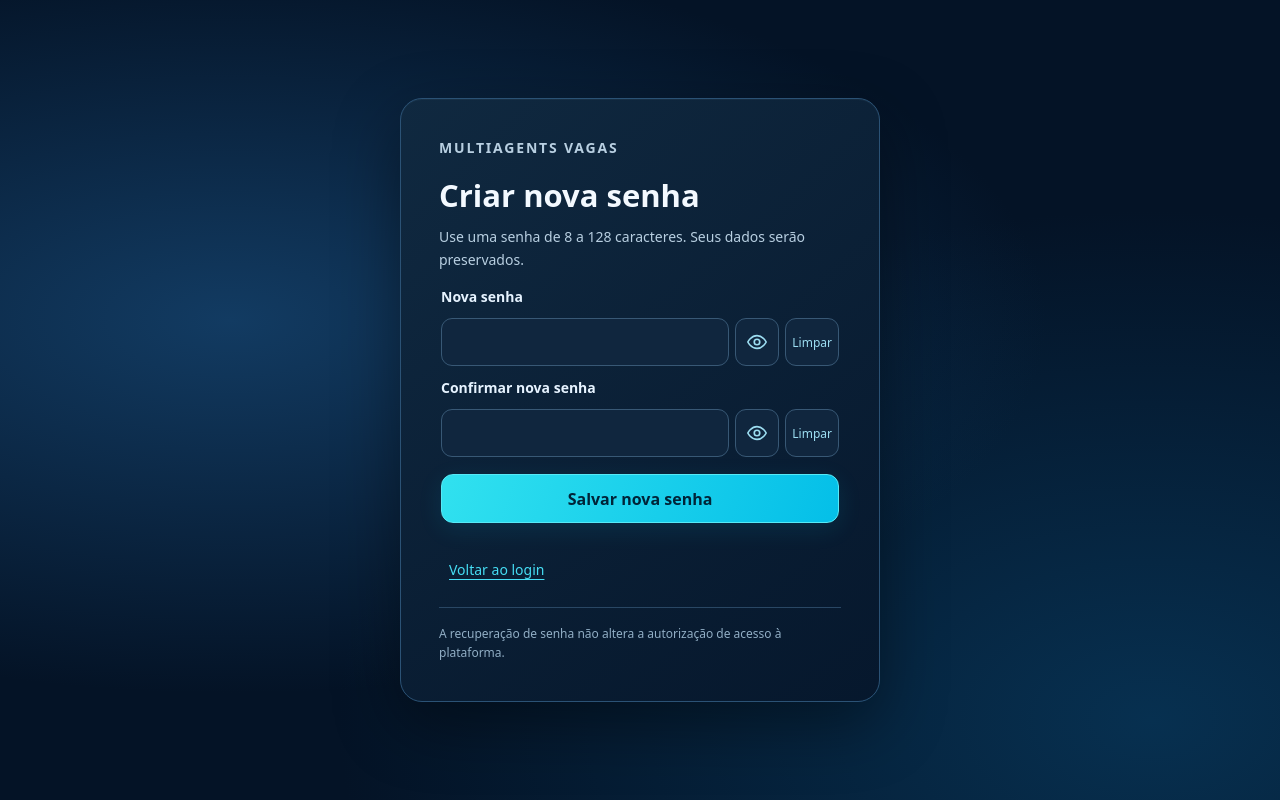
Test: Recuperação de senha › remove o token da URL, exige confirmação e volta ao login após redefinir
Expected: the heading "Criar nova senha" is shown, [439,174,700,216]
Type "Uma senha longa segura!" into the password field labelled "Nova senha" at (585, 342), box [441,318,729,366]
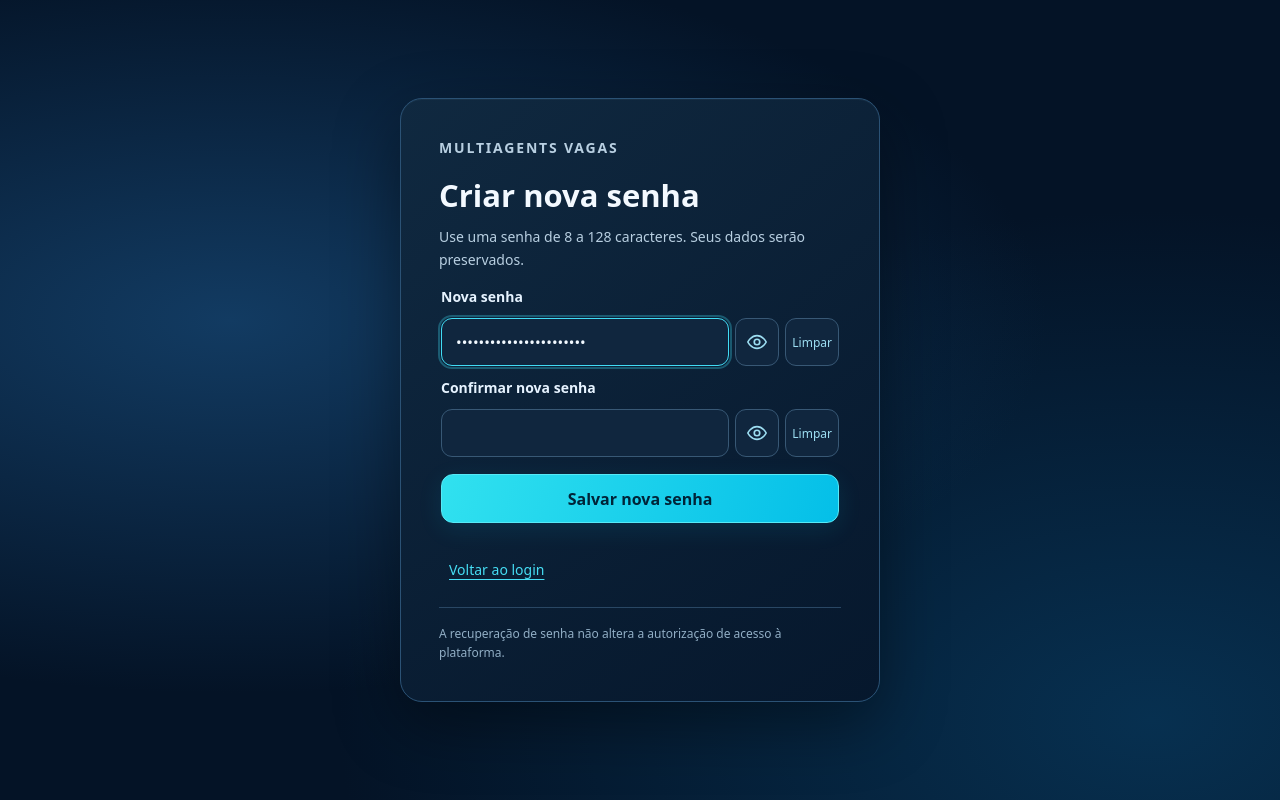
Type "Outra senha longa segura!" into the password field labelled "Confirmar nova senha" at (585, 433), box [441,409,729,457]
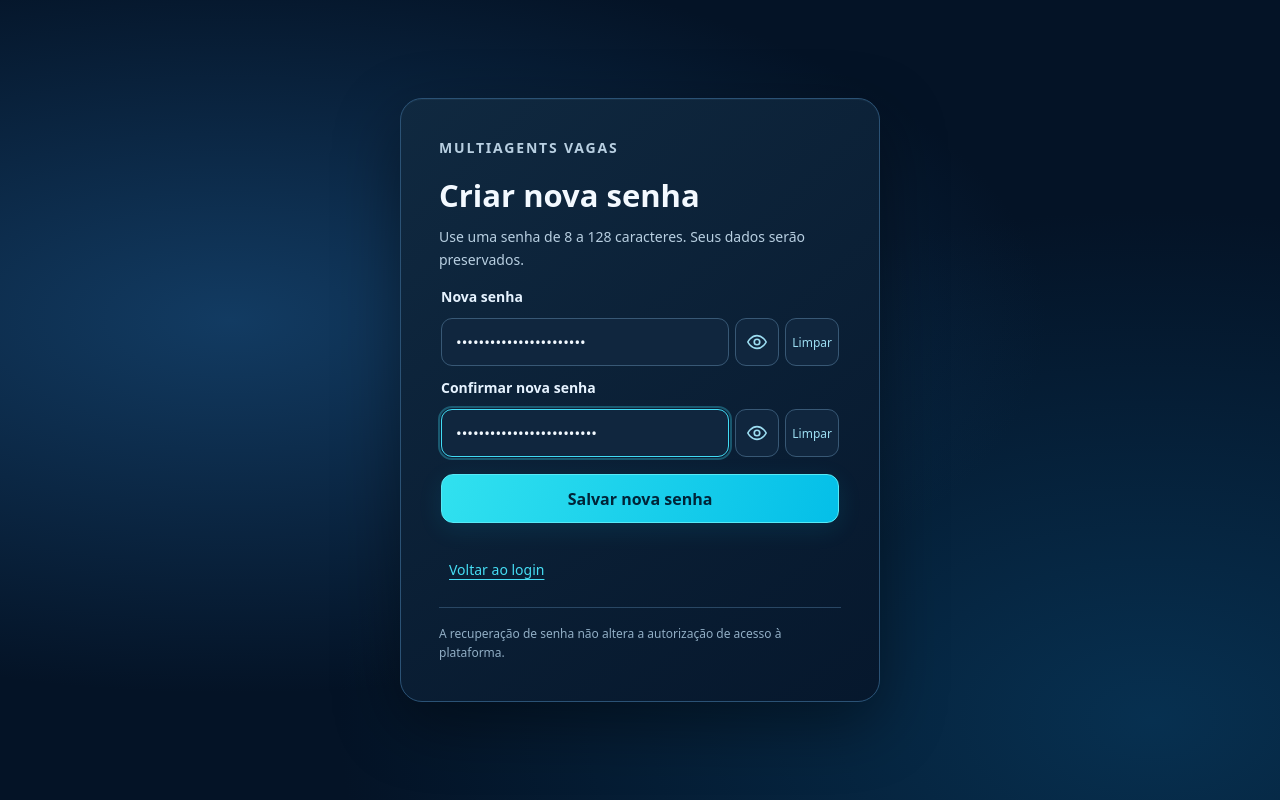
Click the button "Salvar nova senha" at (640, 499), box [441,474,839,523]
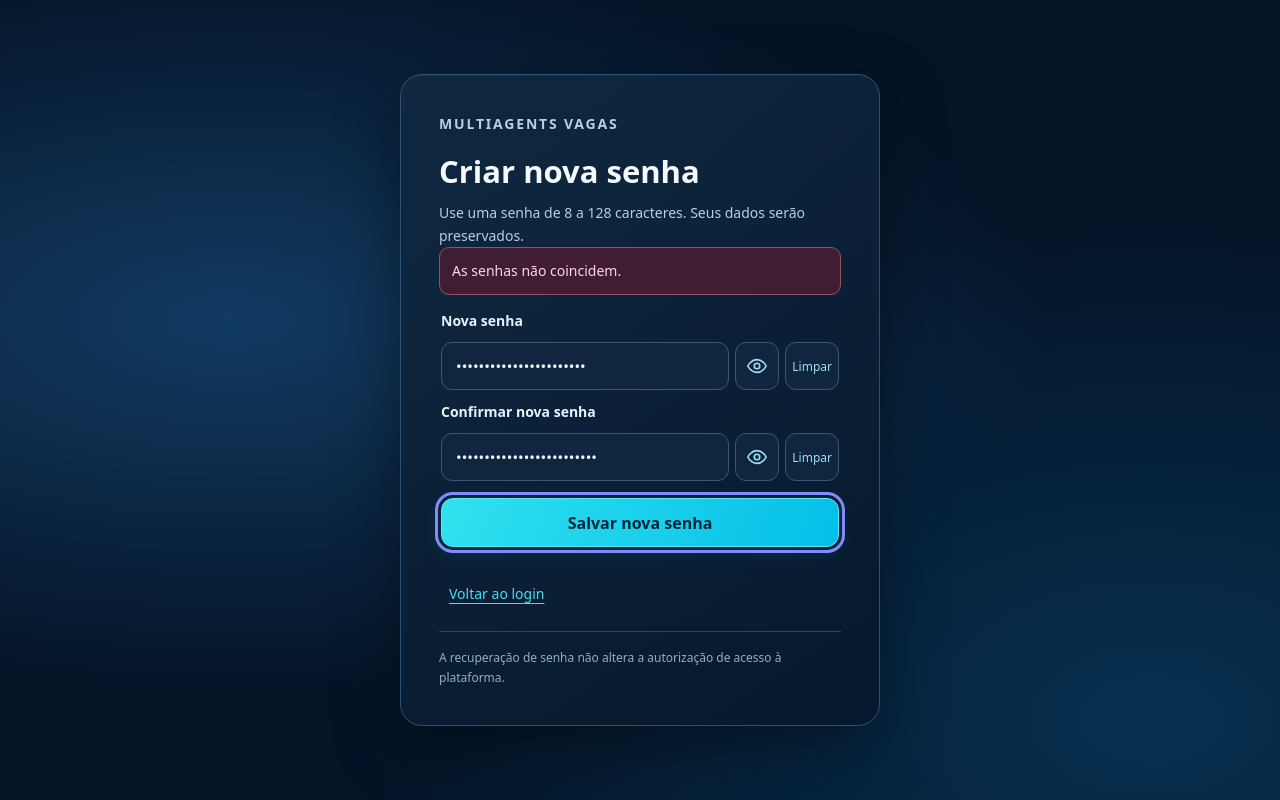
Expected: the message reads "As senhas não coincidem.", [452,261,621,280]
Type "Uma senha longa segura!" into the password field labelled "Confirmar nova senha" at (585, 458), box [441,434,729,482]
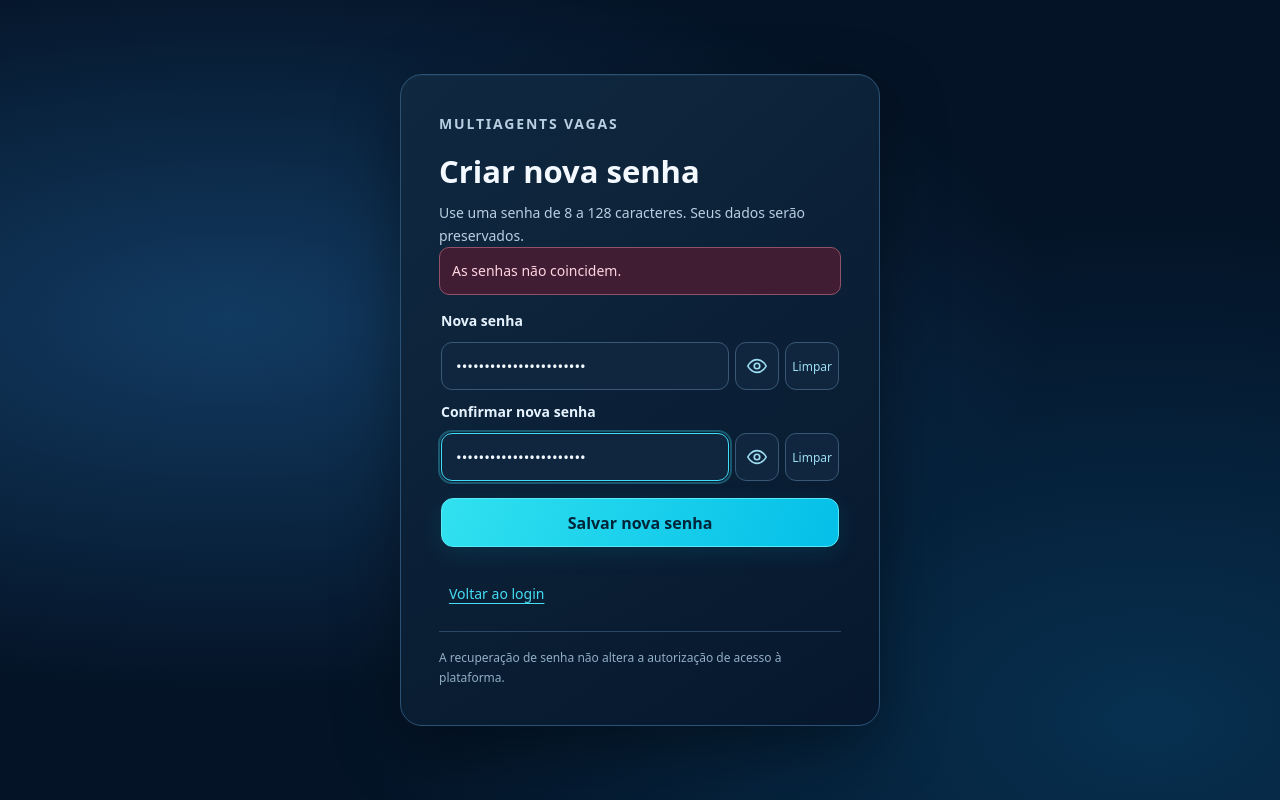
Click the button "Salvar nova senha" at (640, 523), box [441,498,839,548]
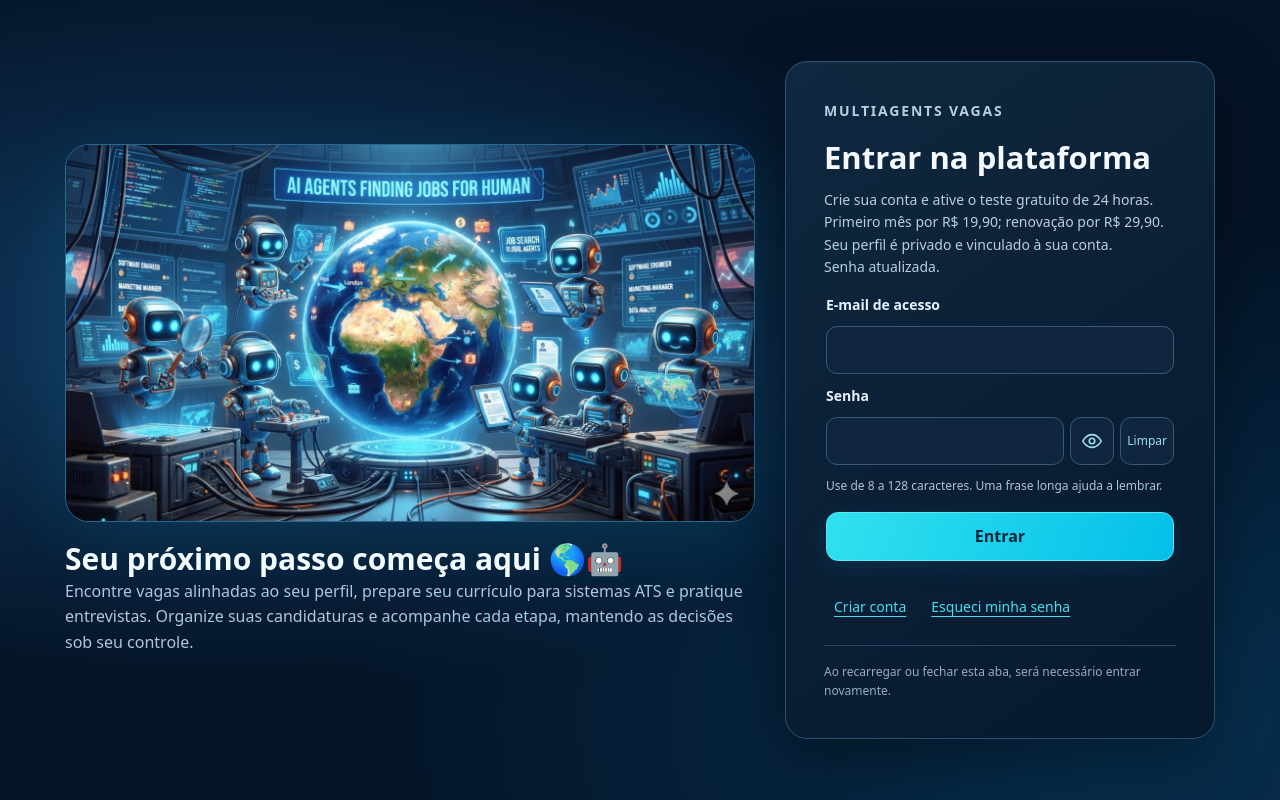
Expected: the heading "Entrar na plataforma" is shown, [824,138,1176,177]
Expected: the message reads "Senha atualizada.", [824,257,940,276]
